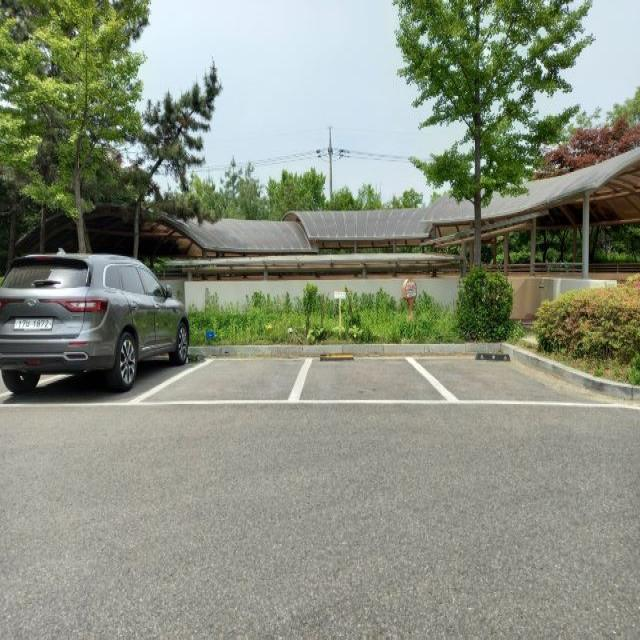empty: (414, 356, 640, 410), (136, 353, 306, 403), (296, 354, 448, 404)
occupied: (3, 254, 194, 390)
